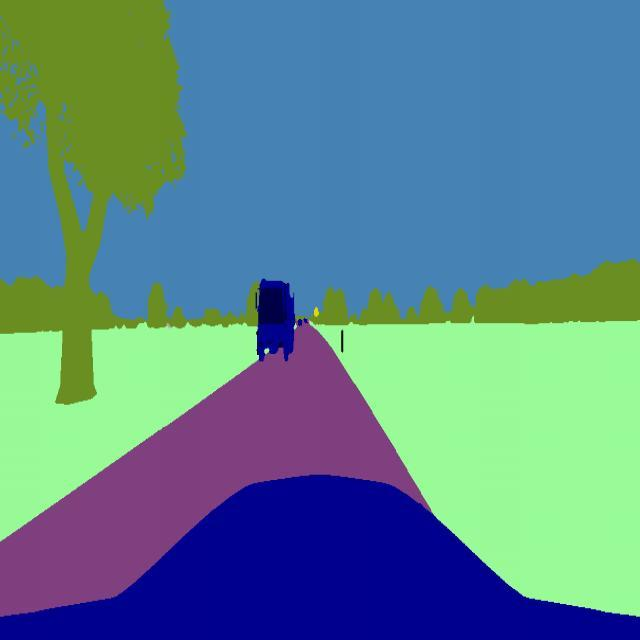safe: (256, 276, 294, 365)
